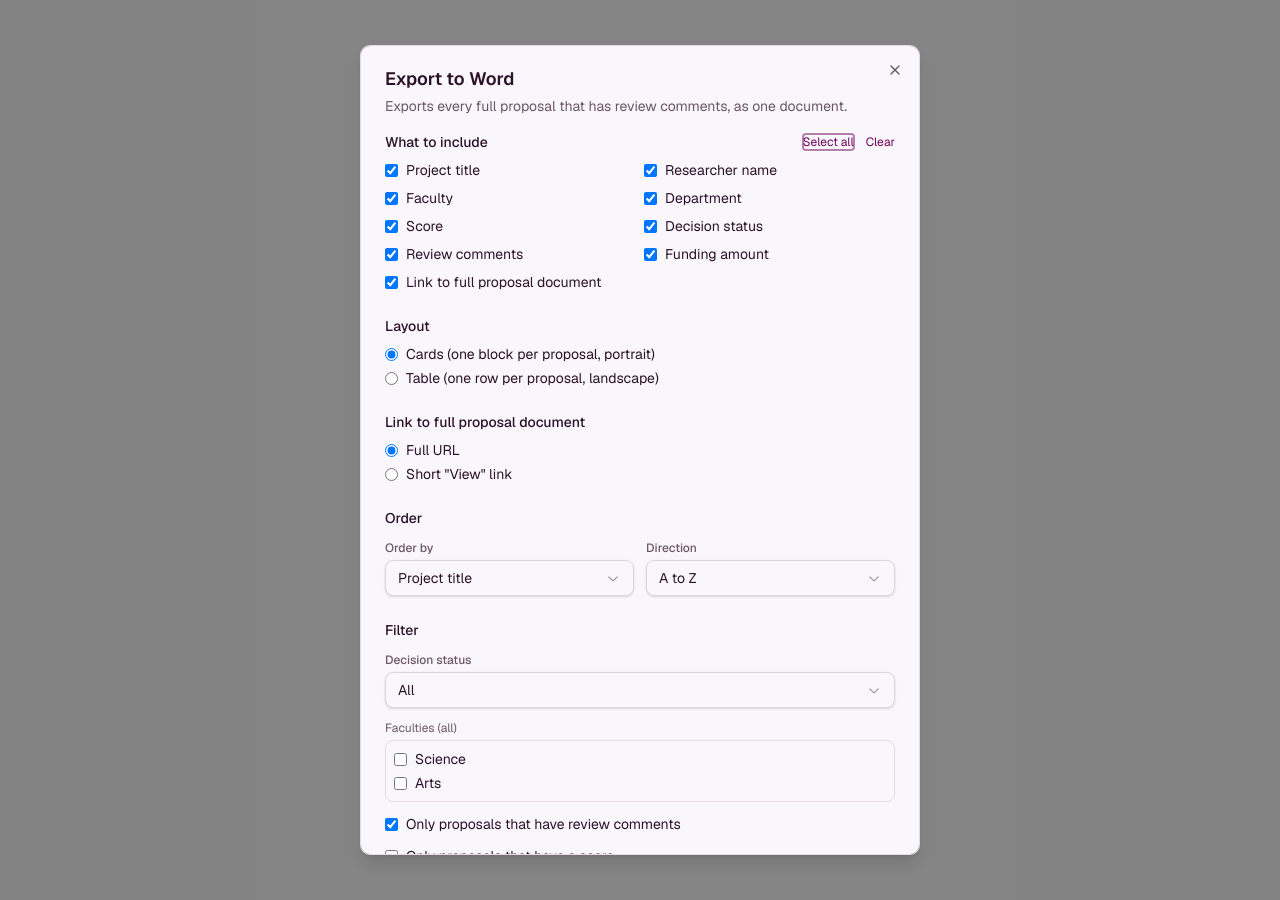
FullProposalExportDialog › hides the link style choice when the link field is unticked
Expected: the radio button labelled "Full URL" is shown, [385,444,398,456]
Click the checkbox labelled "Link to full proposal document": click(392, 282) [385,276,398,288]
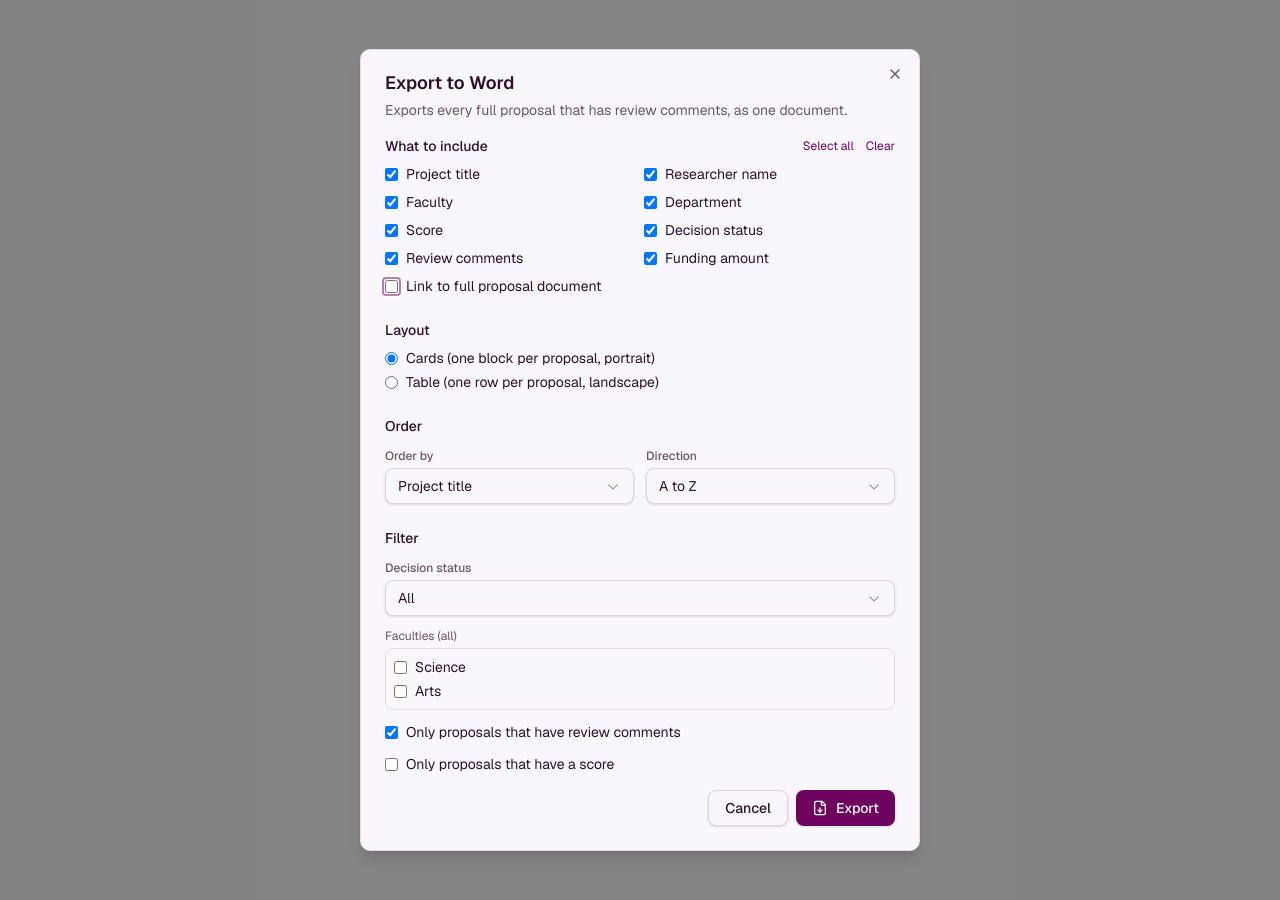
Now the label labelled "Full URL" is gone
